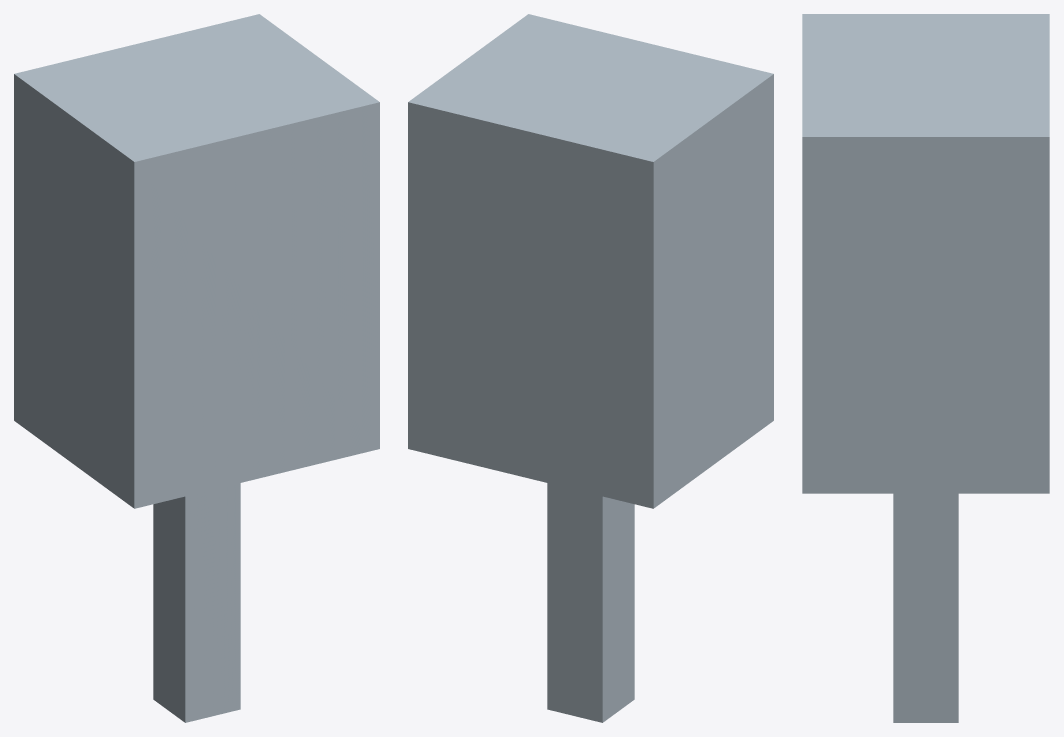
File: shadow-tree-low.glb
3 renders of one model, left to right at view 1: azimuth 30°, elevation 25°; view 2: azimuth 150°, elevation 25°; view 3: azimuth 270°, elevation 25°, orthographic. The views are drawn at different scales.
Bounding box in the file's own units: 40 × 96 × 34.
